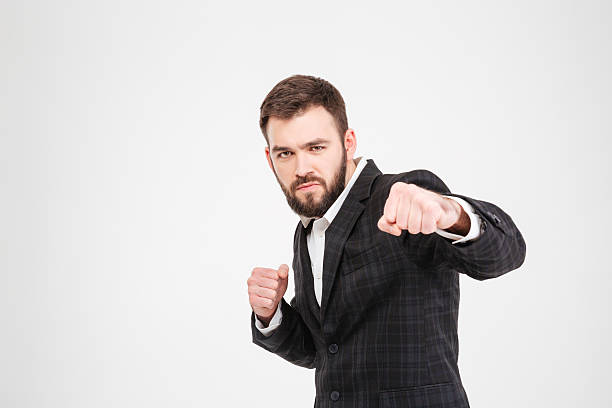Yes: (376, 178, 465, 246), (243, 259, 294, 327)
